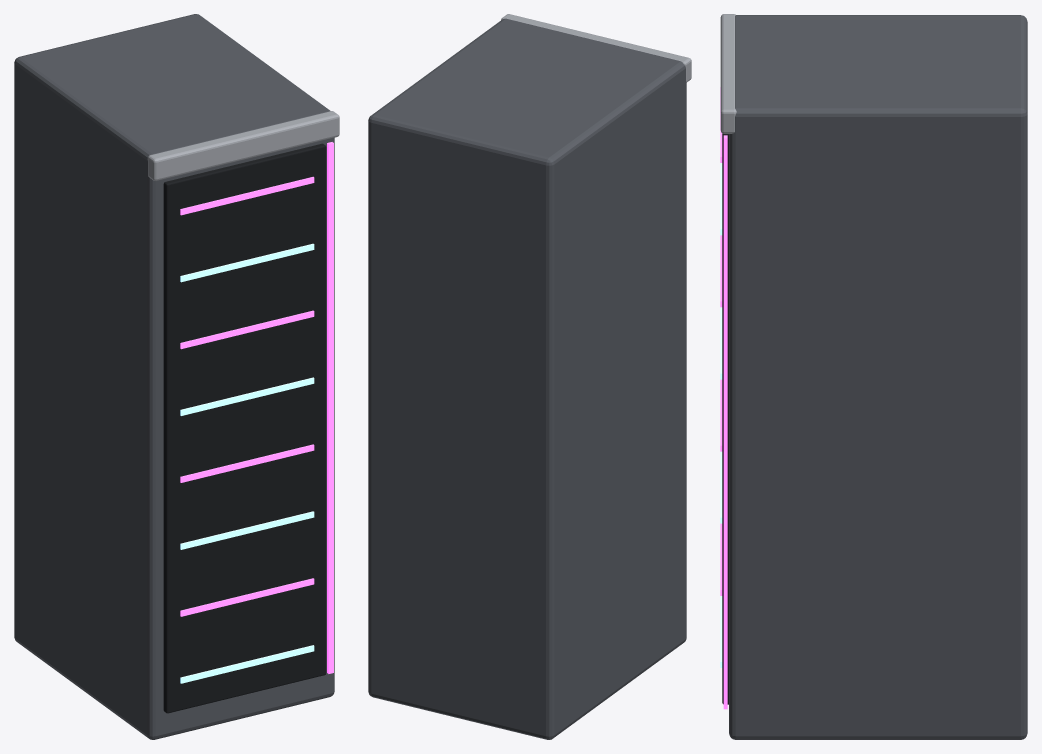
File: server_rack_core_stack.glb
The picture shows the model from 3 angles, left to right: view 1: azimuth 30°, elevation 25°; view 2: azimuth 150°, elevation 25°; view 3: azimuth 270°, elevation 25°; orthographic projection. The views are drawn at different scales.
Visible parts, largest first — view 1: GD_server_rack_core_stack__m0, GD_server_rack_core_stack__m1, GD_server_rack_core_stack__m2, GD_server_rack_core_stack__m3, GD_server_rack_core_stack__m4; view 2: GD_server_rack_core_stack__m0, GD_server_rack_core_stack__m3; view 3: GD_server_rack_core_stack__m0, GD_server_rack_core_stack__m2, GD_server_rack_core_stack__m1, GD_server_rack_core_stack__m3, GD_server_rack_core_stack__m4.
Part boxes in pixels (x1,y1,x2,y2): GD_server_rack_core_stack__m0: [14, 14, 334, 739]; GD_server_rack_core_stack__m1: [163, 143, 326, 713]; GD_server_rack_core_stack__m2: [180, 142, 333, 673]; GD_server_rack_core_stack__m3: [147, 111, 339, 180]; GD_server_rack_core_stack__m4: [180, 243, 314, 683]; GD_server_rack_core_stack__m0: [368, 18, 686, 739]; GD_server_rack_core_stack__m3: [501, 14, 691, 82]; GD_server_rack_core_stack__m0: [729, 15, 1027, 739]; GD_server_rack_core_stack__m2: [720, 87, 727, 709]; GD_server_rack_core_stack__m1: [722, 133, 728, 704]; GD_server_rack_core_stack__m3: [720, 14, 736, 133]; GD_server_rack_core_stack__m4: [720, 163, 722, 667].
Size of the model in its own units: 0.7 by 2.1 by 0.926.
